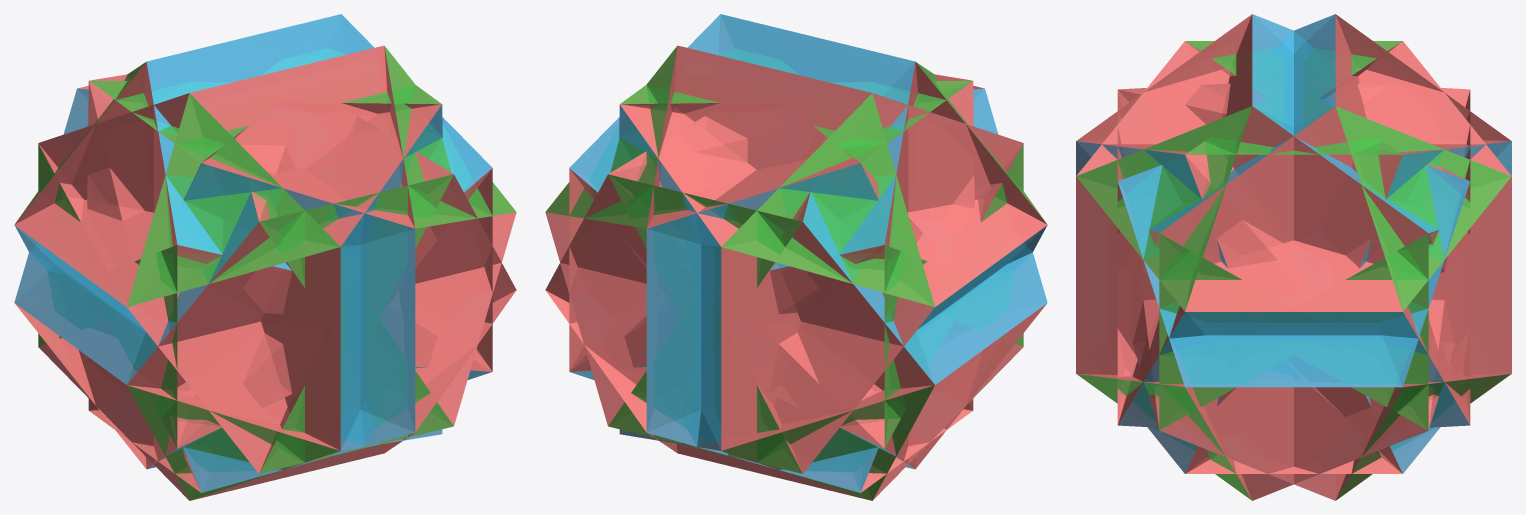
File: GreatIcosicosidodecahedron.obj
The picture shows the model from 3 angles, left to right: view 1: azimuth 30°, elevation 25°; view 2: azimuth 150°, elevation 25°; view 3: azimuth 270°, elevation 25°; orthographic projection. The views are drawn at different scales.
Size of the model in its own units: 2 by 2 by 2.
